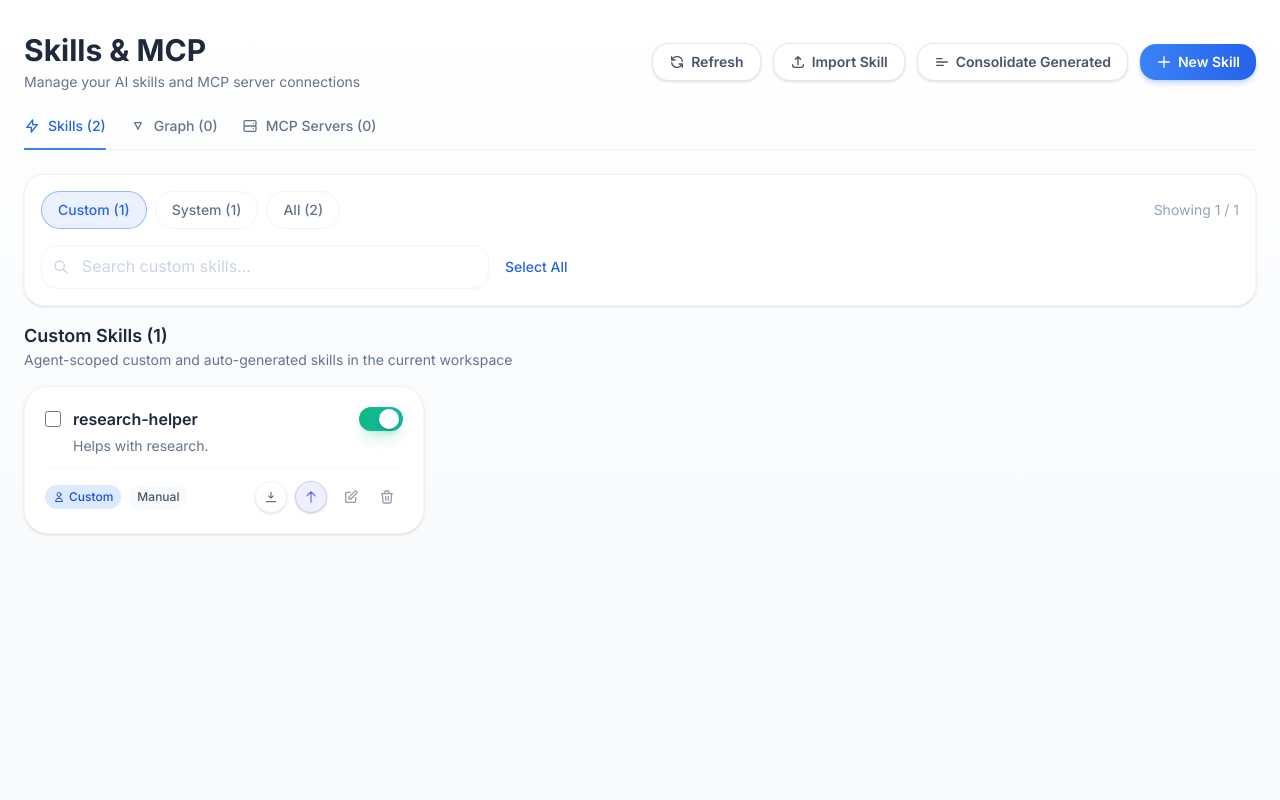
Test: SkillsPage › shows when the persisted skill graph was automatically refreshed
The width and height of the screenshot is (1280, 800).
Click the button "Graph (0)" at (174, 133), box [130,116,218,150]
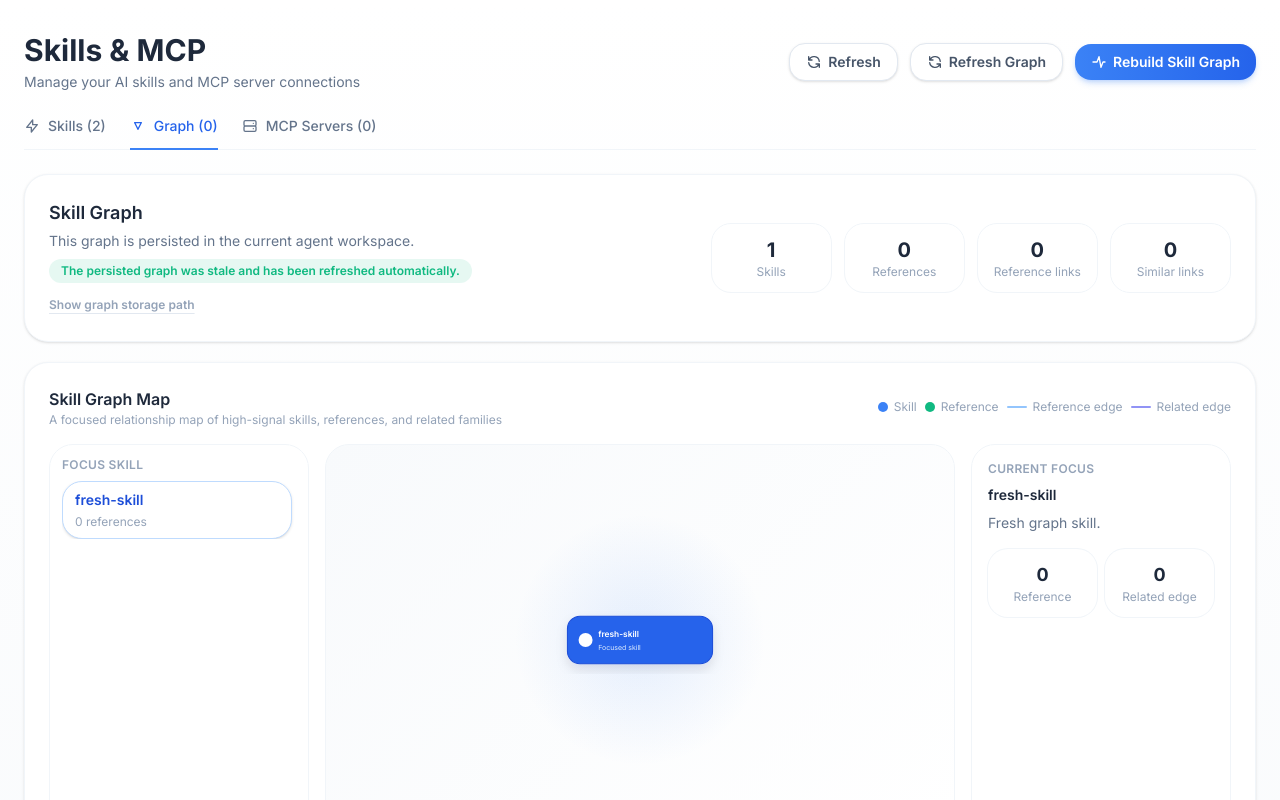
Expected: the text "The persisted graph was stale and has been refreshed automatically." is shown, [49,259,472,283]
Expected: the text "fresh-skill" below "Focus skill" is shown, [75,491,143,508]
